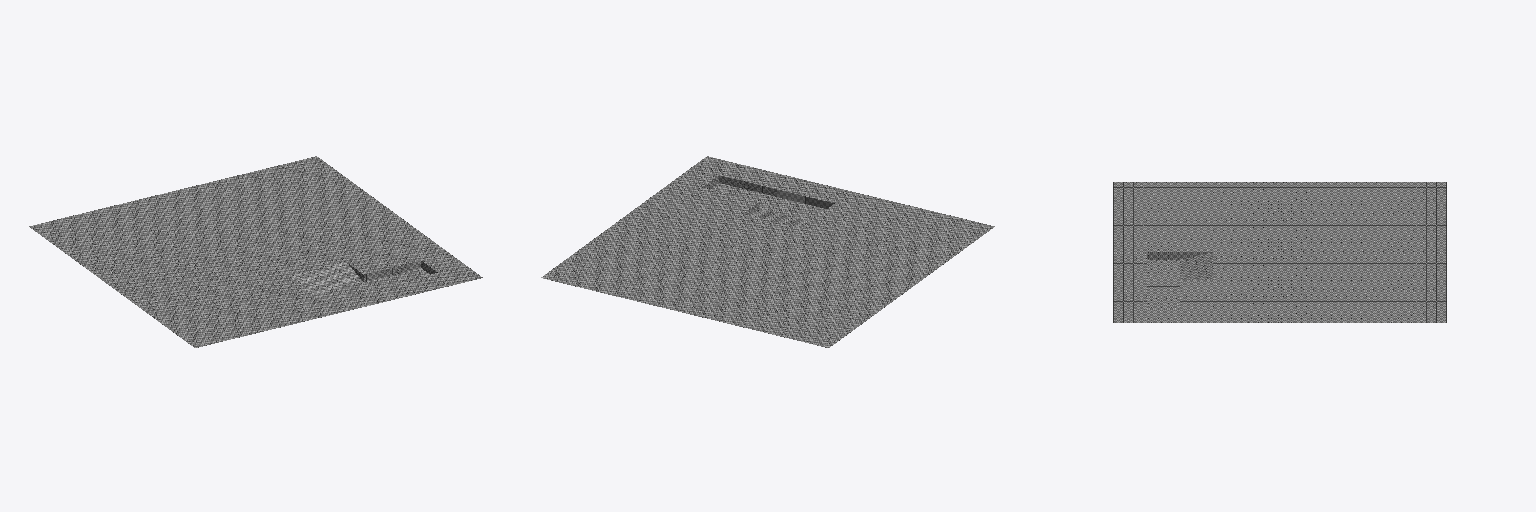
The picture shows the model from 3 angles: view 1: azimuth 30°, elevation 25°; view 2: azimuth 150°, elevation 25°; view 3: azimuth 270°, elevation 25°; orthographic projection.
Parts seen in each view (by area): view 1: Plane.001; view 2: Plane.001; view 3: Plane.001.
Part boxes in pixels (x1,y1,x2,y2): Plane.001: (29, 156, 482, 347); Plane.001: (541, 156, 994, 347); Plane.001: (1113, 182, 1446, 322).
Size of the model in its own units: 100 by 2.5 by 100.
Materials: 1 (1 with a texture image).